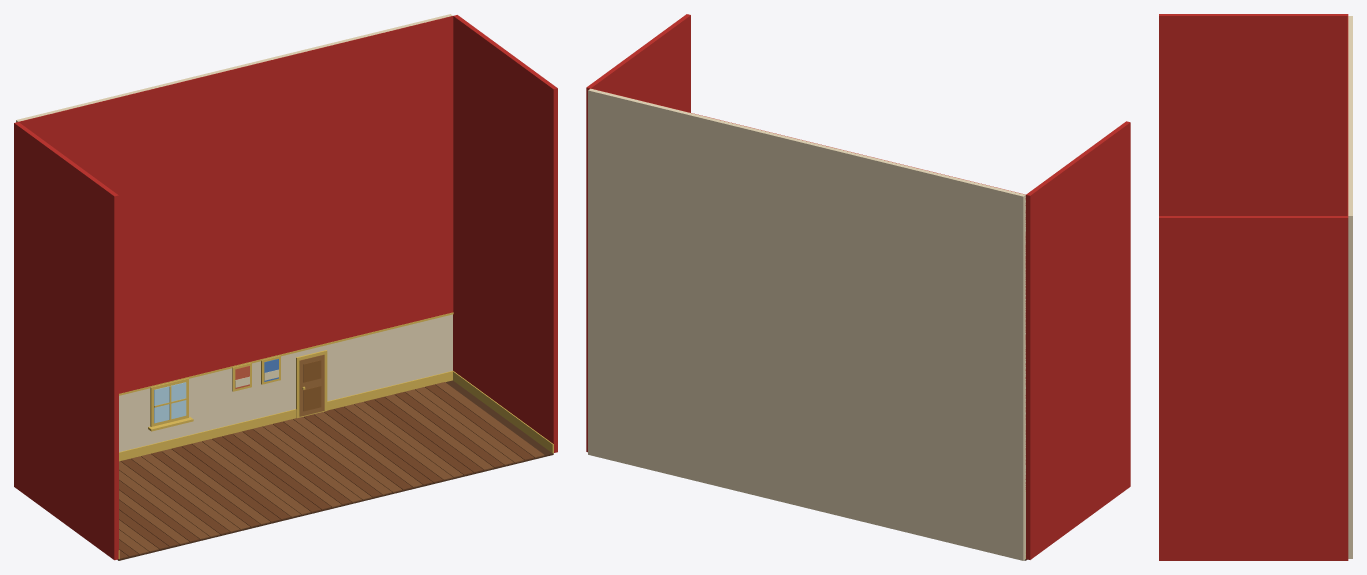
The model's file is room_russia_wood.glb.
The picture shows the model from 3 angles, left to right: view 1: azimuth 30°, elevation 25°; view 2: azimuth 150°, elevation 25°; view 3: azimuth 270°, elevation 25°; orthographic projection. The views are drawn at different scales.
Parts seen in each view (by area): view 1: room; view 2: room; view 3: room.
Boxes of the visible parts, <box> form: room: <box>14,14,557,560</box>; room: <box>586,14,1130,560</box>; room: <box>1159,14,1352,560</box>.
Bounding box in the file's own units: 30.6 × 24.11 × 12.3.
